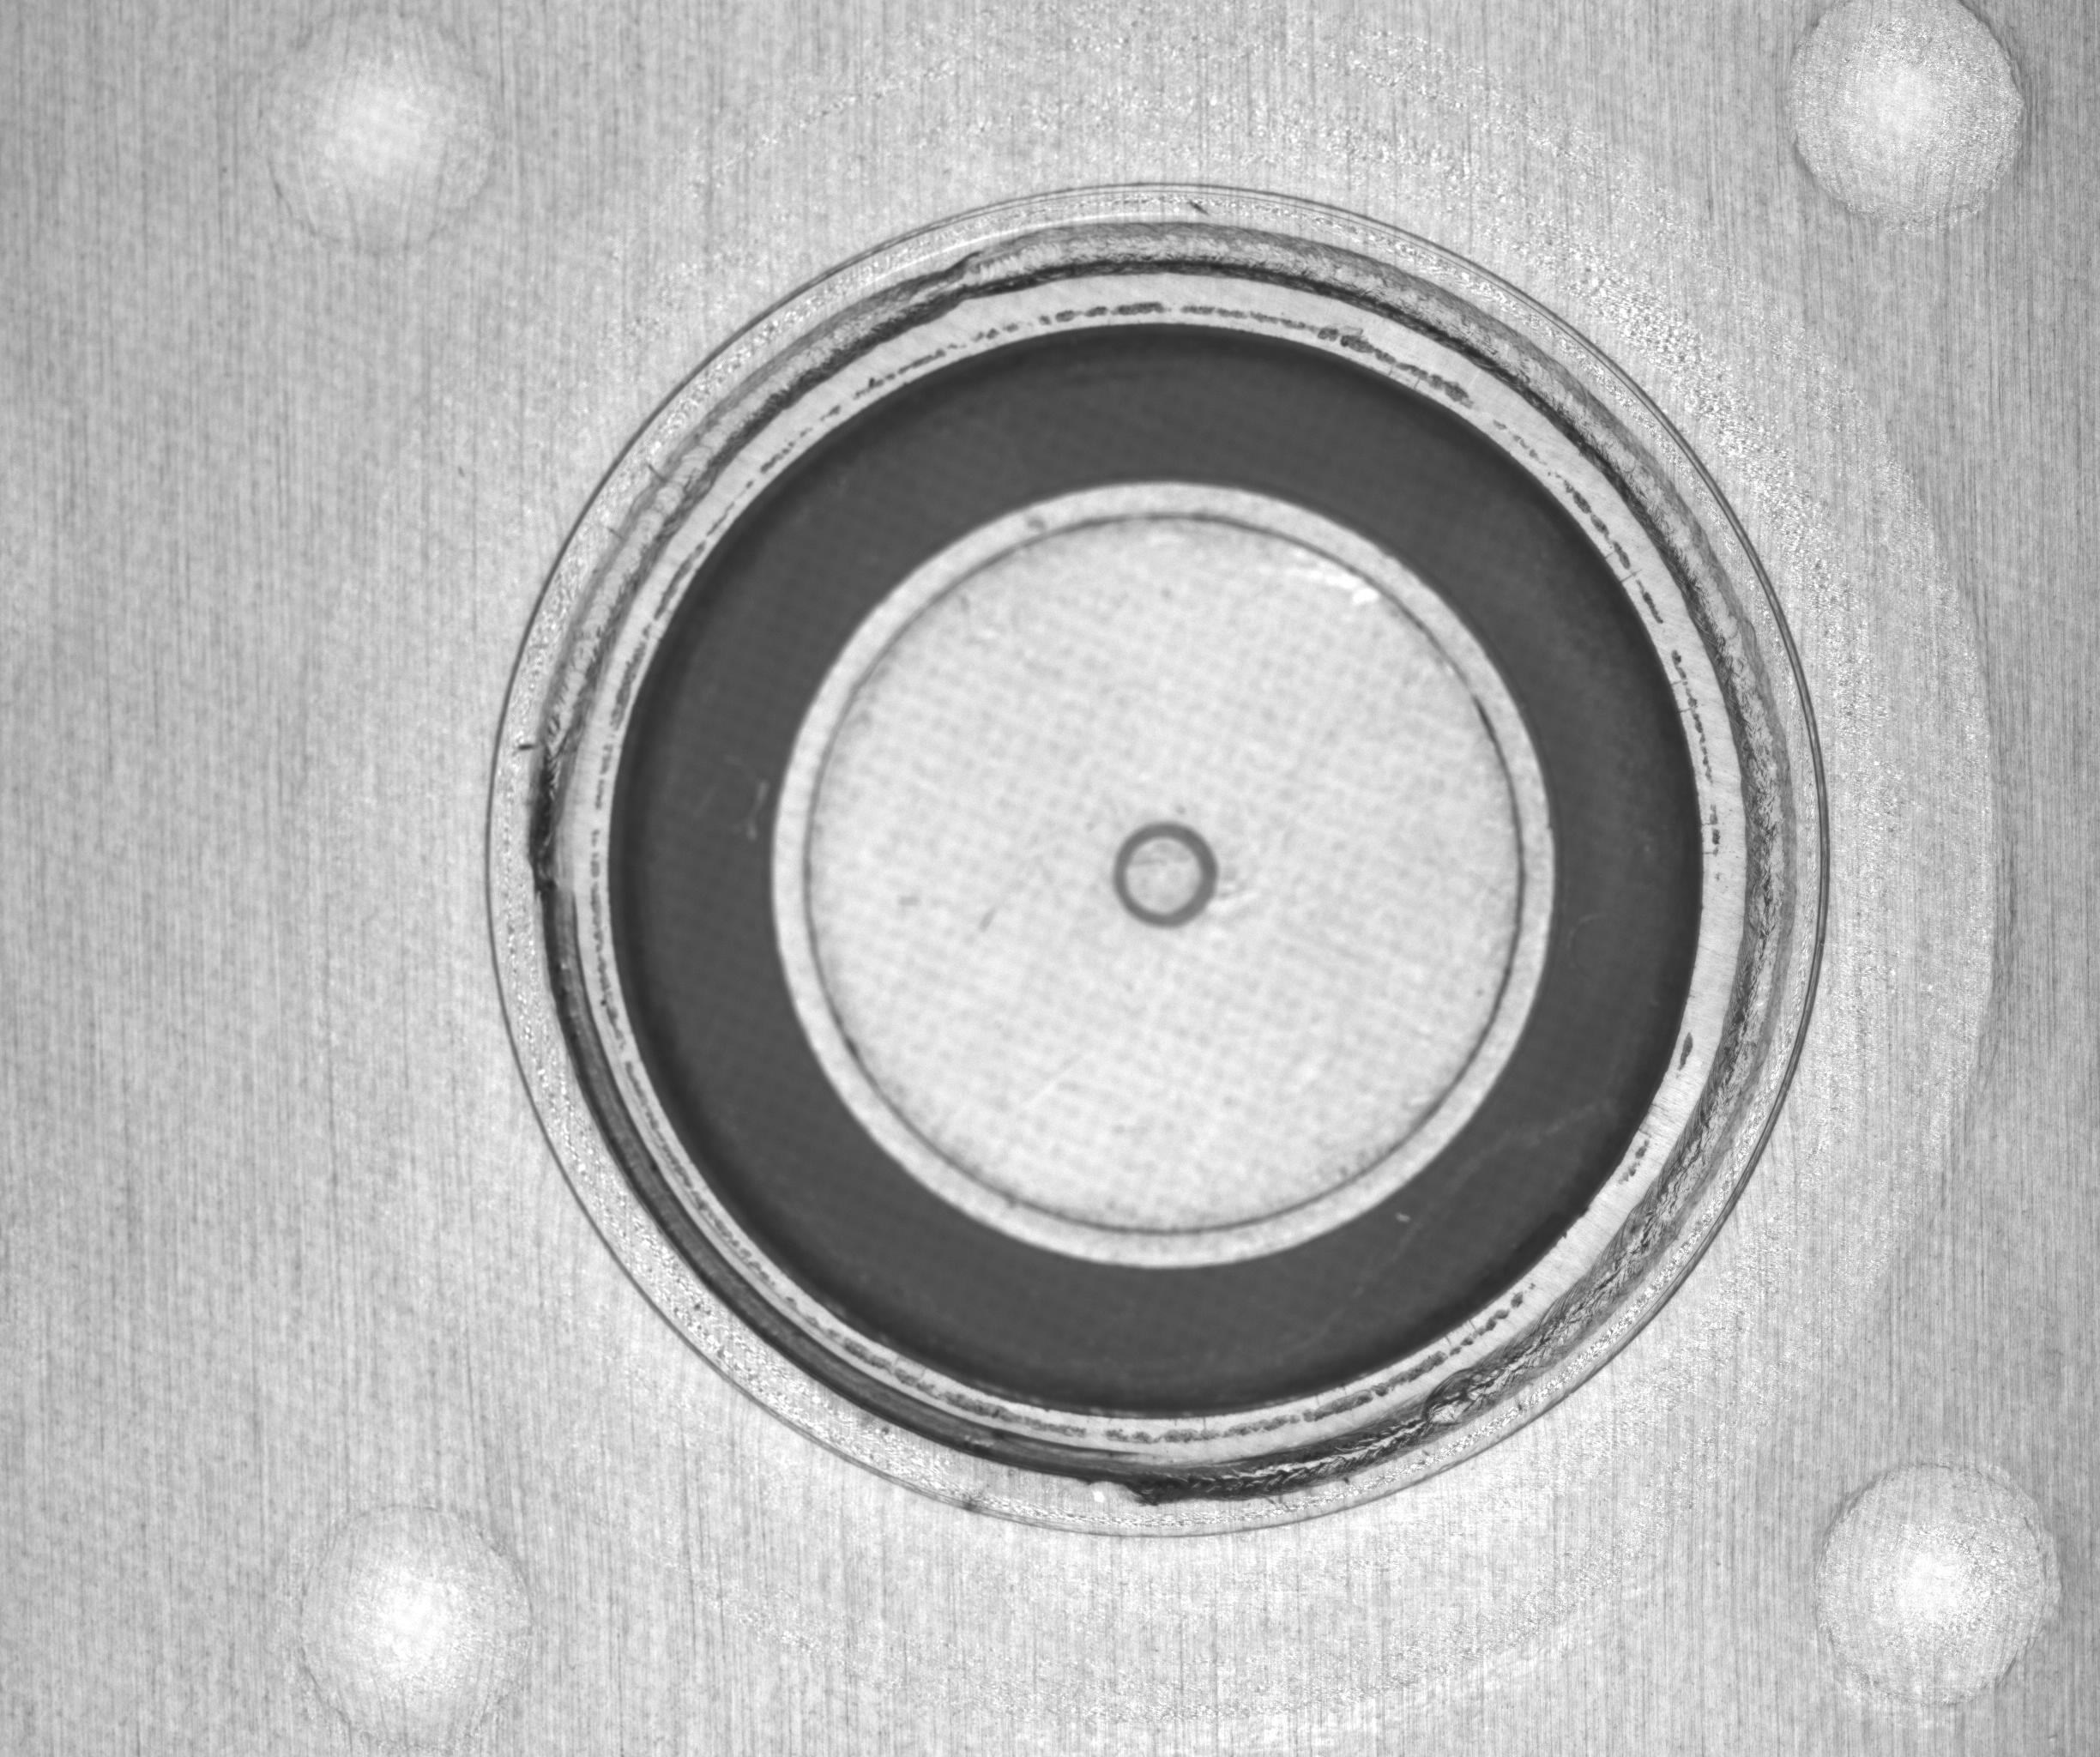lackofweld: (502, 893, 1160, 1511)
